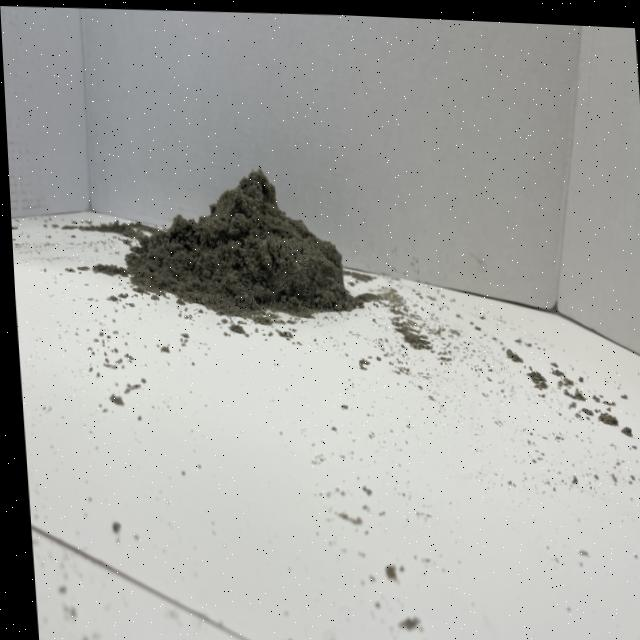sand: (108, 154, 398, 326)
